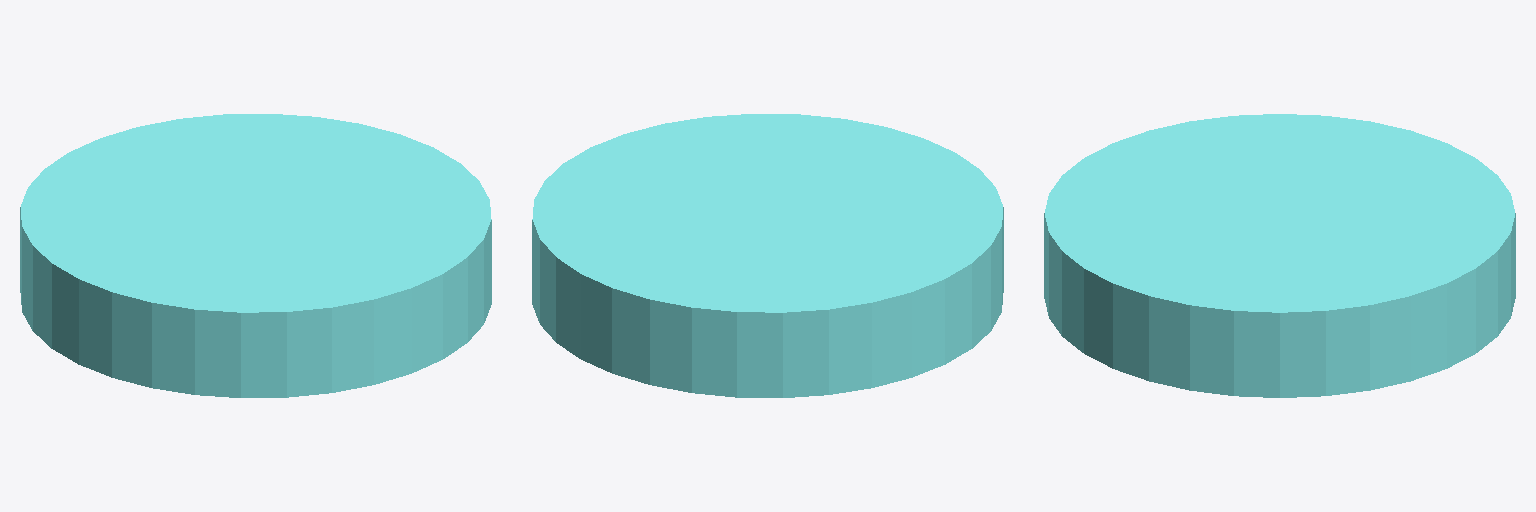
URDF robot description (cylinder_robot):
<?xml version="1.0"?>
<robot name="cylinder_robot">
  <link name="base_link">
    <contact>
      <lateral_friction value="0.2"/>
      <spinning_friction value=".001"/>
    </contact>
    <inertial>
      <origin rpy="0 0 0" xyz="0 0 0"/>
      <mass value="0.5"/>
      <inertia ixx="0.0000001" ixy="0" ixz="0" iyy="0.0000001" iyz="0" izz="0.0000001"/>
    </inertial>
    <visual>
      <origin rpy="0 0 0" xyz="0.0 0.0 0.0"/>
      <geometry>
        <cylinder length="0.04" radius="0.1"/>
      </geometry>
      <material name="blockmat">
        <color rgba="0.6 1 1 1"/>
      </material>
    </visual>
    <collision>
      <origin rpy="0 0 0" xyz="0.0 0.0 0.0"/>
      <geometry>
        <cylinder length="0.04" radius="0.1"/>
      </geometry>
    </collision>
  </link>
</robot>

--- What the picture shows (computed from the rendered views, not written in the file) ---
The picture shows the robot from 3 angles, left to right: view 1: azimuth 30°, elevation 25°; view 2: azimuth 150°, elevation 25°; view 3: azimuth 270°, elevation 25°; orthographic projection.
Robot: cylinder_robot — 1 links, 0 joints (none); root link base_link; default pose: every joint at zero.
Links seen in each view (by area): view 1: base_link; view 2: base_link; view 3: base_link.
Boxes of the visible links, left/top/right/bottom form: base_link: left=20, top=114, right=491, bottom=397; base_link: left=532, top=114, right=1003, bottom=397; base_link: left=1044, top=114, right=1515, bottom=397.
Size in the robot's own frame: 0.2 by 0.2 by 0.04 metres.
Geometry: primitives only (box / cylinder / sphere), no mesh files.